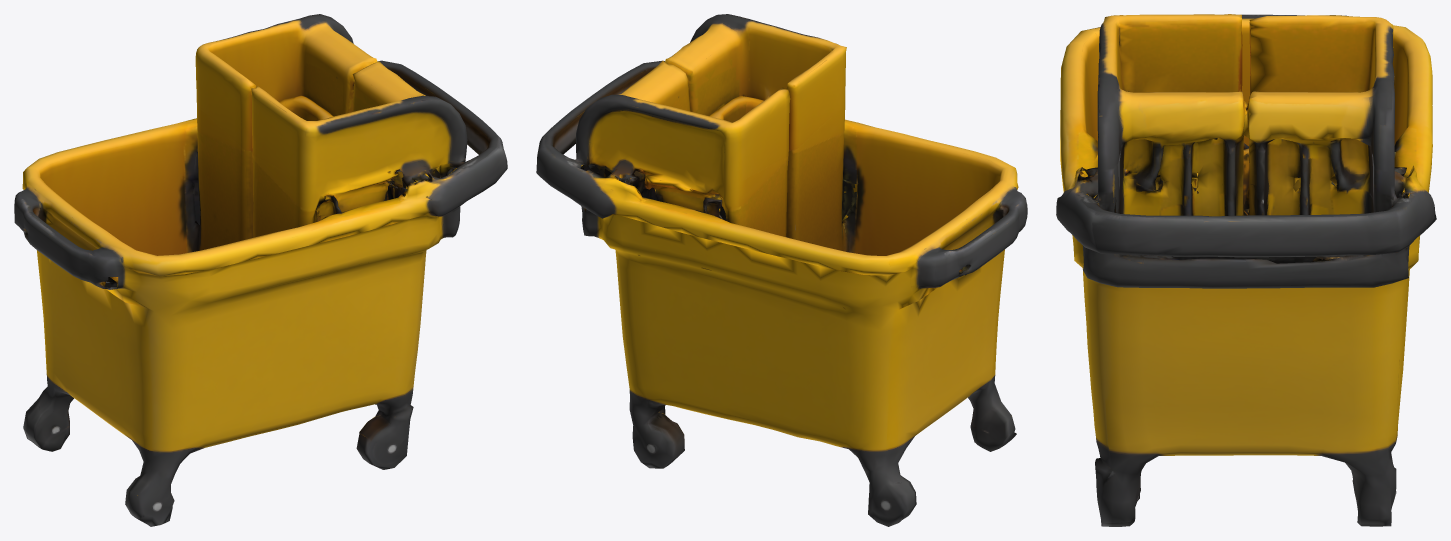
The model's file is Meshy_AI_Yellow_Cleaning_Cart_0102213430_texture.fbx.
The picture shows the model from 3 angles, left to right: view 1: azimuth 30°, elevation 25°; view 2: azimuth 150°, elevation 25°; view 3: azimuth 270°, elevation 25°; orthographic projection. The views are drawn at different scales.
Parts seen in each view (by area): view 1: Mesh0; view 2: Mesh0; view 3: Mesh0.
Boxes of the visible parts, x1=… form: Mesh0: x1=14, y1=14, x2=507, y2=526; Mesh0: x1=536, y1=14, x2=1027, y2=526; Mesh0: x1=1056, y1=14, x2=1436, y2=526.
Bounding box in the file's own units: 191 × 162 × 122.
1 material, 1 textured.
